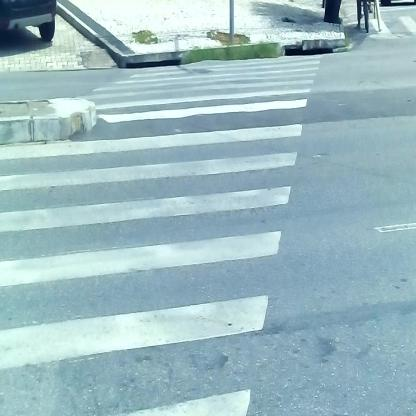crosswalk: (18, 48, 329, 416)
sidewalk: (1, 6, 350, 79)
